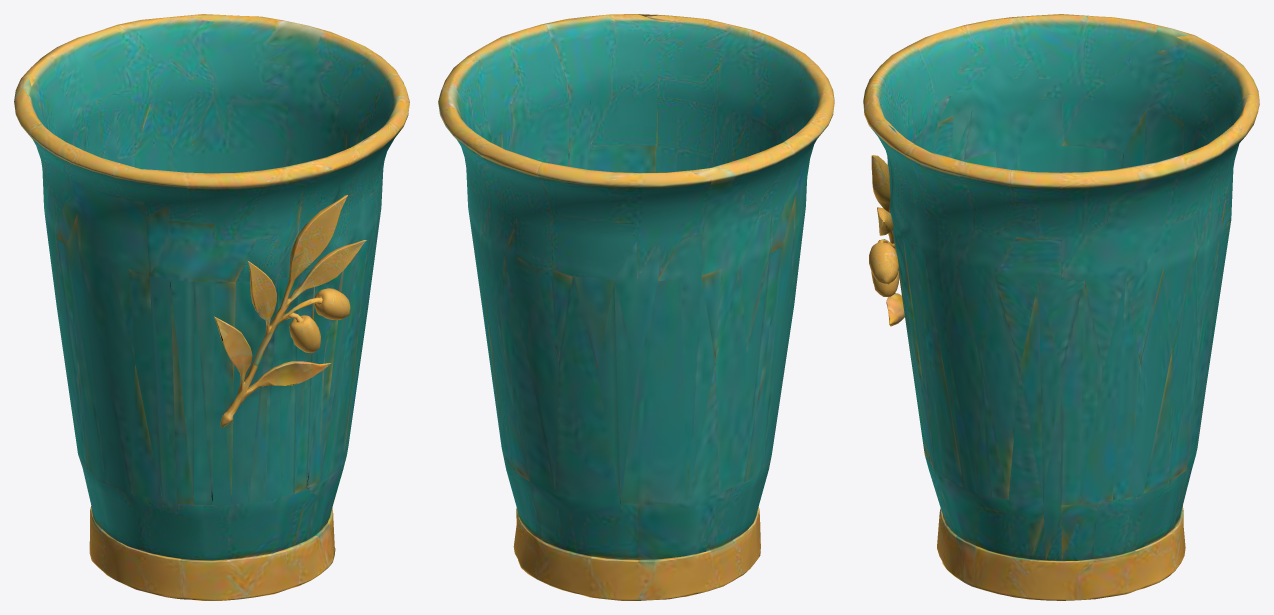
Rendered from Meshy_AI_teal_faceted_cup_1109192254_texture.glb.
3 views of the same model, side by side, from view 1: azimuth 30°, elevation 25°; view 2: azimuth 150°, elevation 25°; view 3: azimuth 270°, elevation 25° (orthographic).
Visible parts, largest first — view 1: geometry_0; view 2: geometry_0; view 3: geometry_0.
Boxes of the visible parts, box(x1,y1,x2,y2) form: geometry_0: box(14, 14, 409, 600); geometry_0: box(438, 14, 834, 600); geometry_0: box(863, 14, 1259, 600).
Bounding box in the file's own units: 0.75 × 0.9512 × 0.7495.
Materials: 1 (1 with a texture image).
